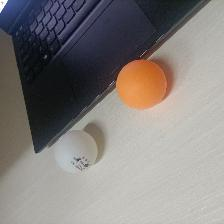WhiteBall: (52, 129, 99, 173)
YellowBall: (115, 58, 167, 108)
